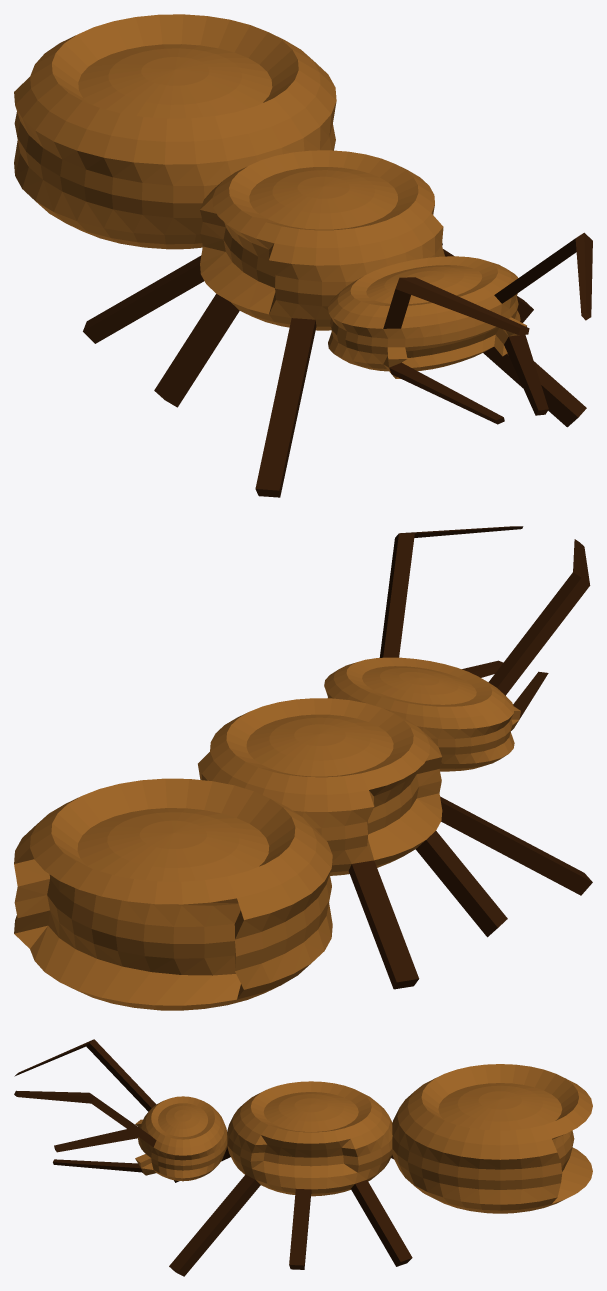
Rendered from newPlayerShip.fbx.
3 renders of one model, top to bottom at view 1: azimuth 30°, elevation 25°; view 2: azimuth 150°, elevation 25°; view 3: azimuth 270°, elevation 25°, orthographic. The views are drawn at different scales.
Visible parts, largest first — view 1: Antship; view 2: Antship; view 3: Antship.
Boxes of the visible parts, x1=… form: Antship: x1=14, y1=14, x2=592, y2=497; Antship: x1=14, y1=526, x2=592, y2=1010; Antship: x1=14, y1=1039, x2=592, y2=1276.
Size of the model in its own units: 244 by 160 by 519.
